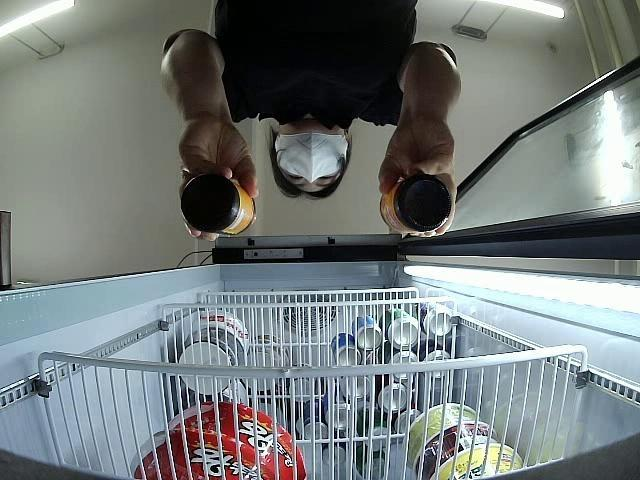17_vita500: (182, 175, 257, 236), (379, 174, 452, 234)
